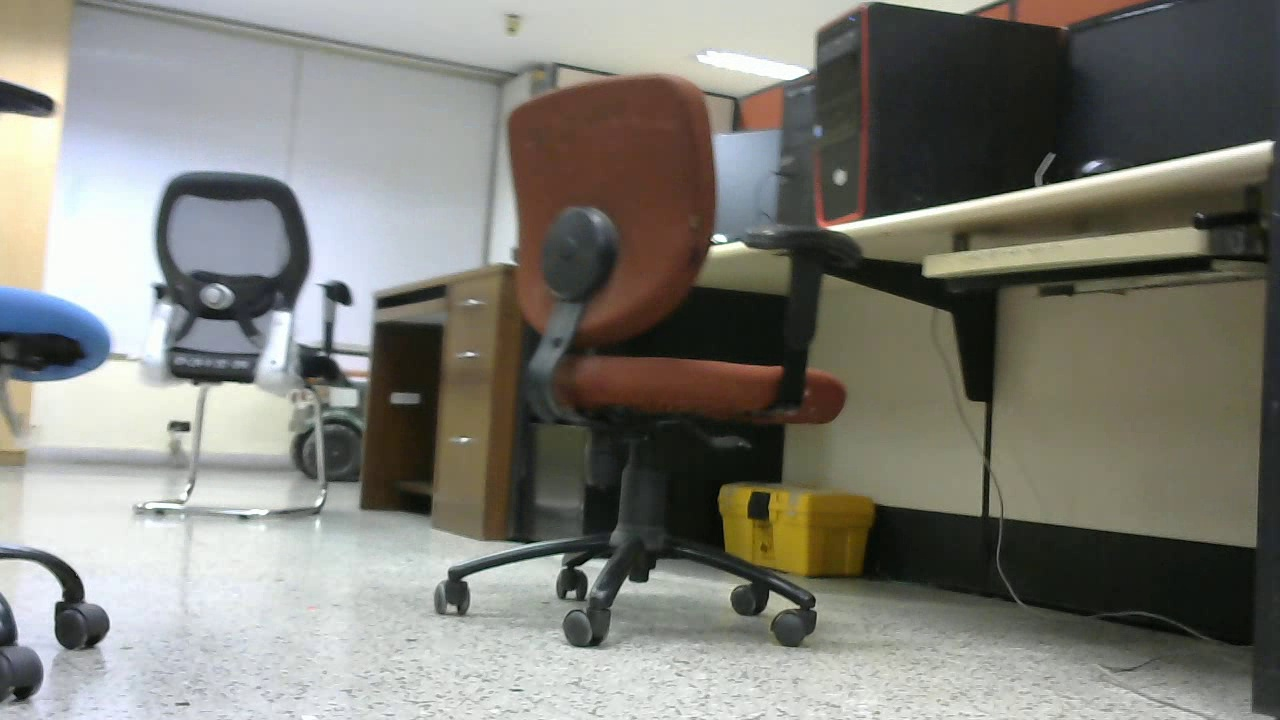chair: (415, 41, 825, 655)
